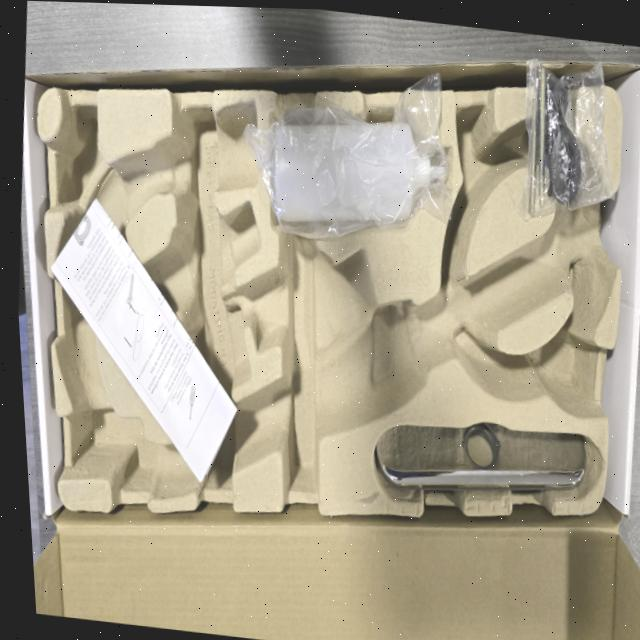1m: (57, 101, 619, 494)
2m: (123, 200, 260, 414)
3: (271, 116, 448, 222)
4: (376, 420, 586, 488)
5m: (533, 329, 592, 415)
6m: (445, 106, 511, 257)
7: (525, 51, 617, 221)
8: (50, 192, 239, 487)
